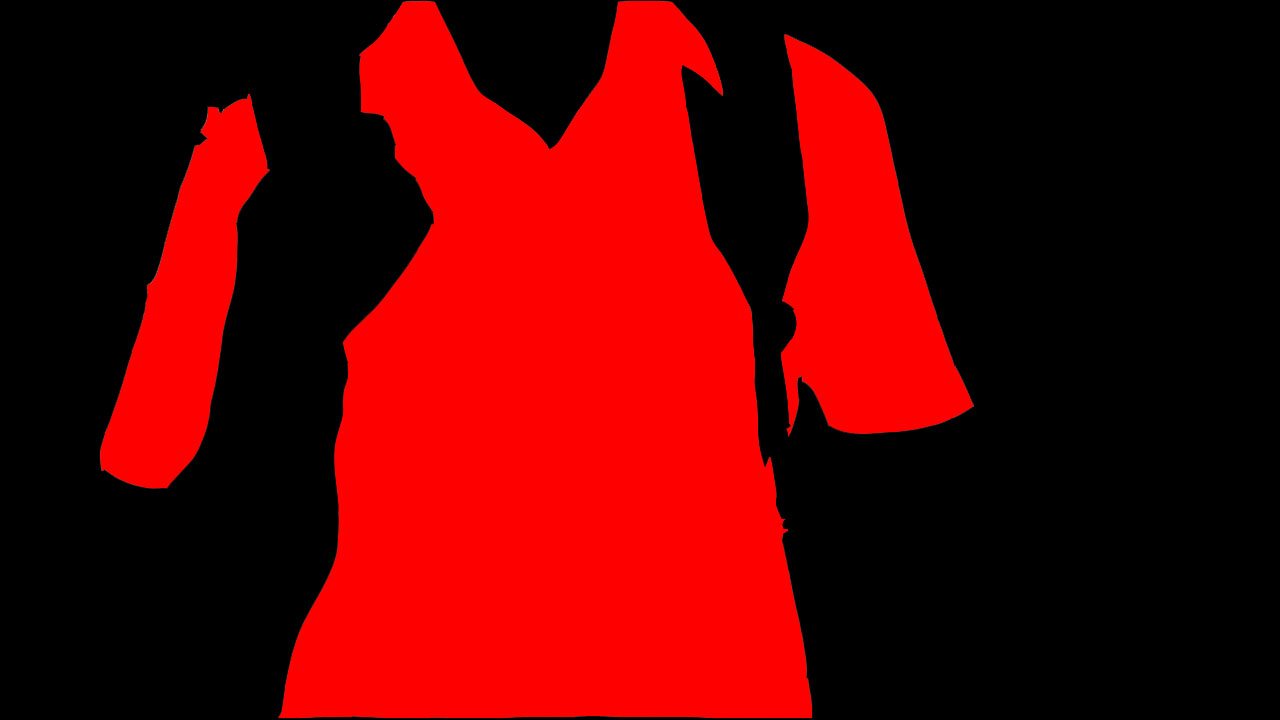uniforme_ifmt: (99, 2, 977, 720)
